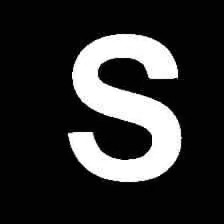LTR_S: (64, 25, 183, 186)
